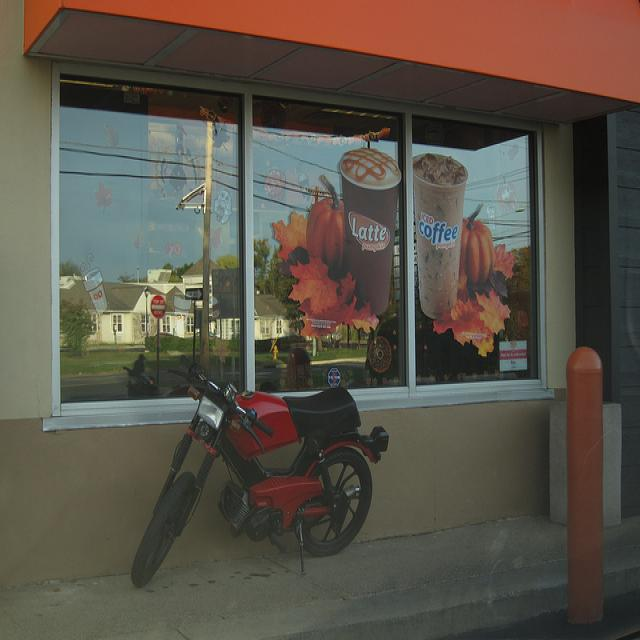motor: (130, 353, 389, 588)
